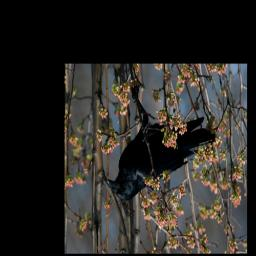Crow: (103, 88, 213, 204)
